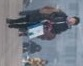person: (6, 7, 79, 39), (18, 27, 56, 38), (19, 6, 57, 16), (21, 40, 41, 54), (24, 55, 48, 66)
